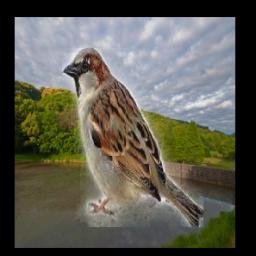Sparrow: (62, 49, 203, 228)
